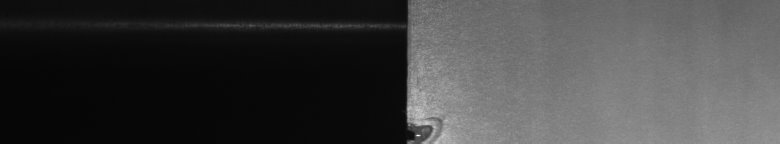hb: (420, 111, 448, 136)
